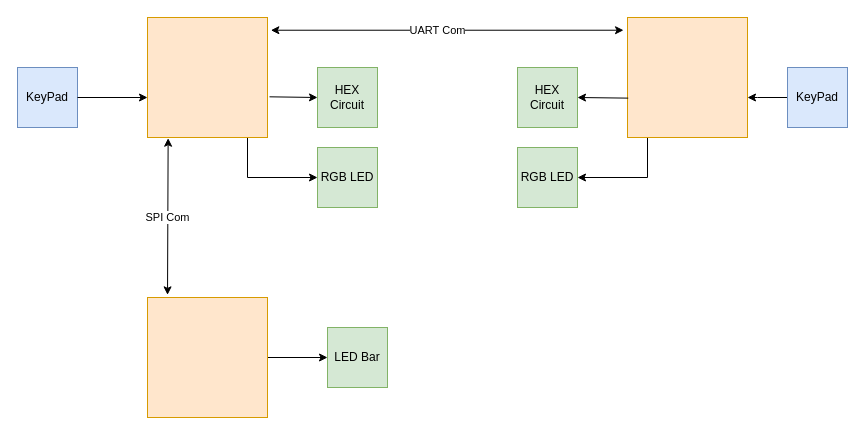
Image size: 865x435. Some labels were removed from this diagram. Here are the shapes that lost their labels. From the top down, the centre of each, then its label:
At pixel 207 77: "MSP430FR355 #1".
At pixel 687 77: "MSP430FR355 #2".
At pixel 207 357: "MSP430FR311".
